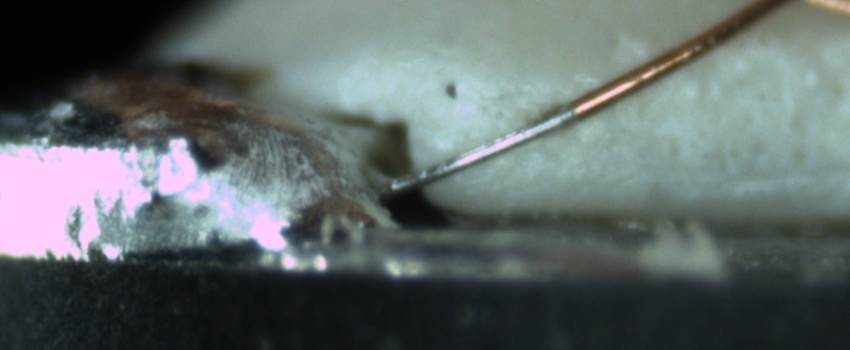TS: (386, 106, 576, 194)
